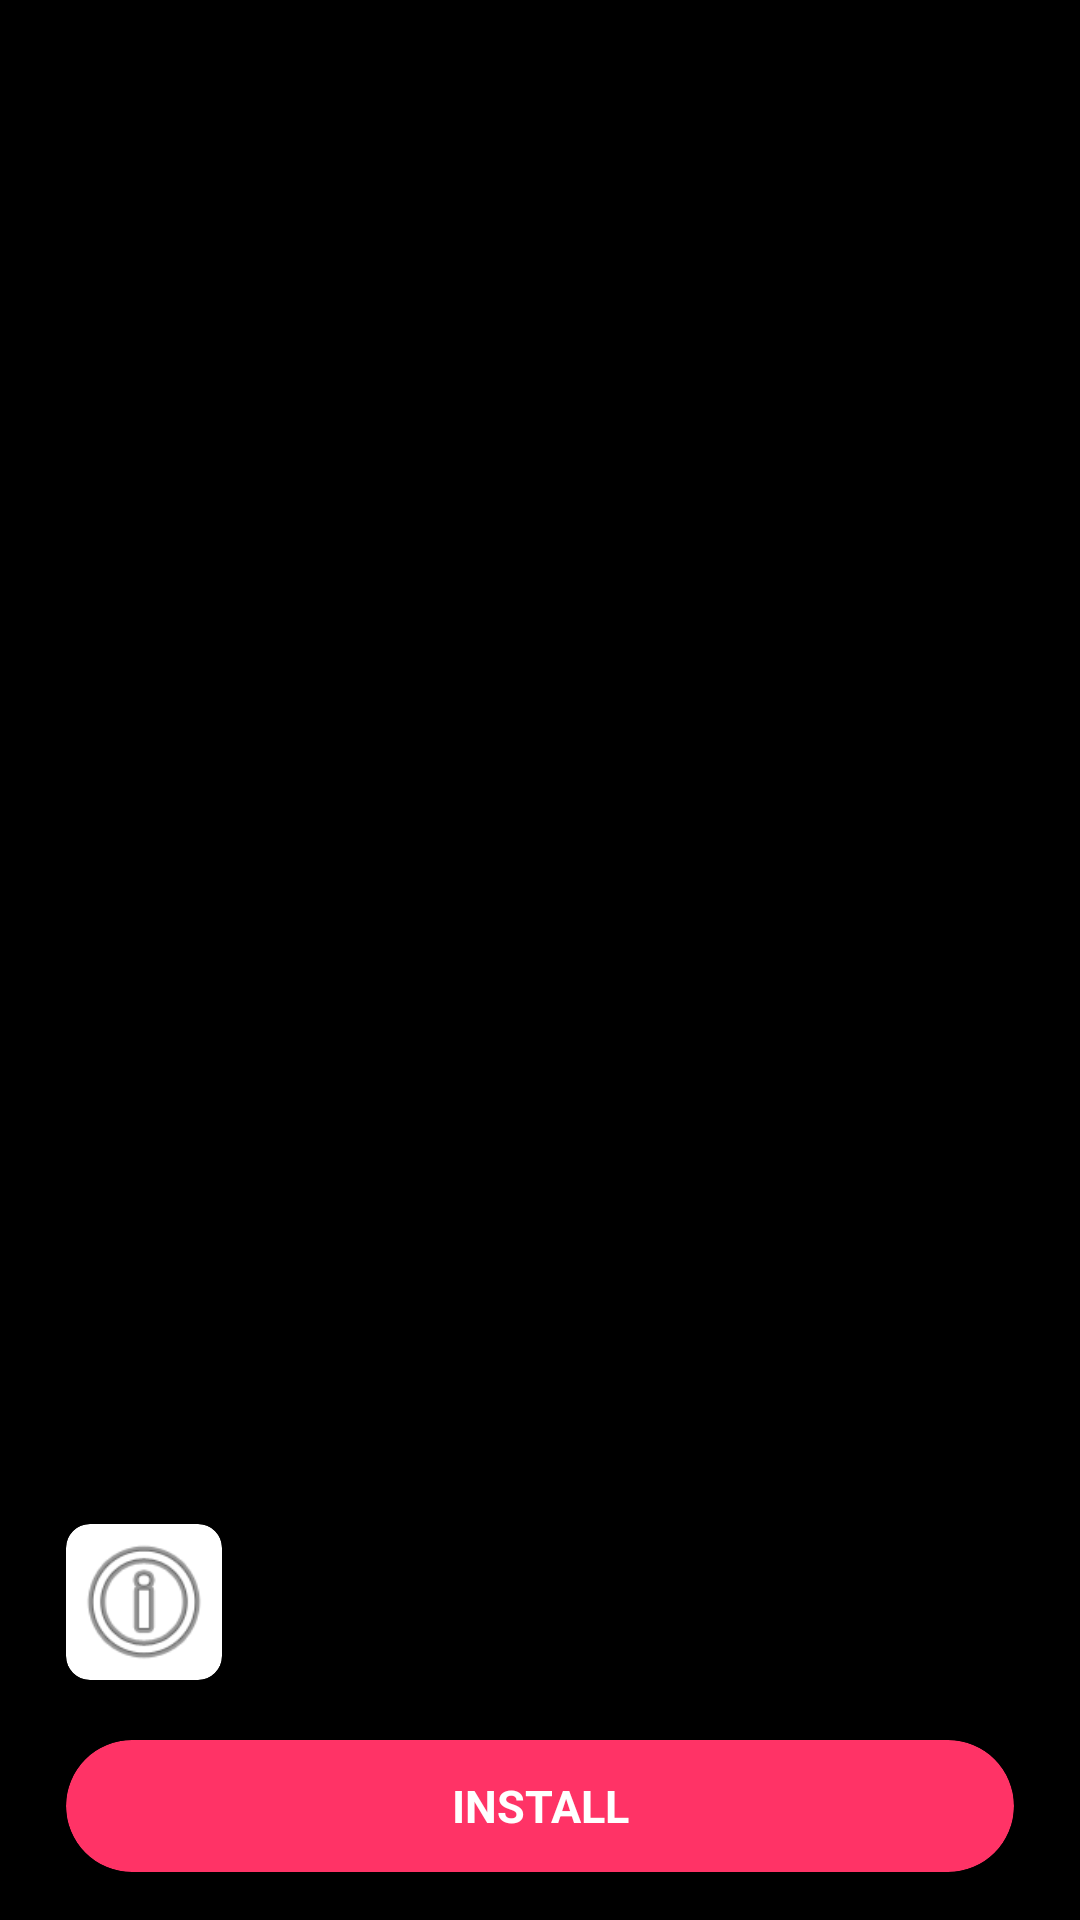

Screen size 1080px x 1920px. Icon name, then its center in pixels as [x,y]:
info details: [144,1602]
